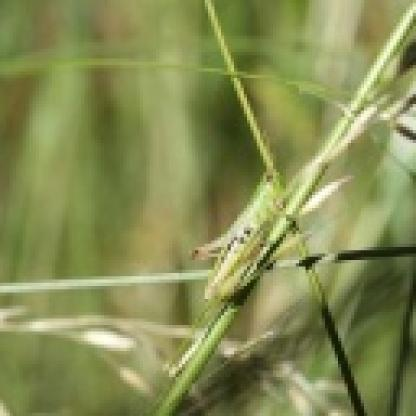grasshopper: (200, 167, 282, 304)
